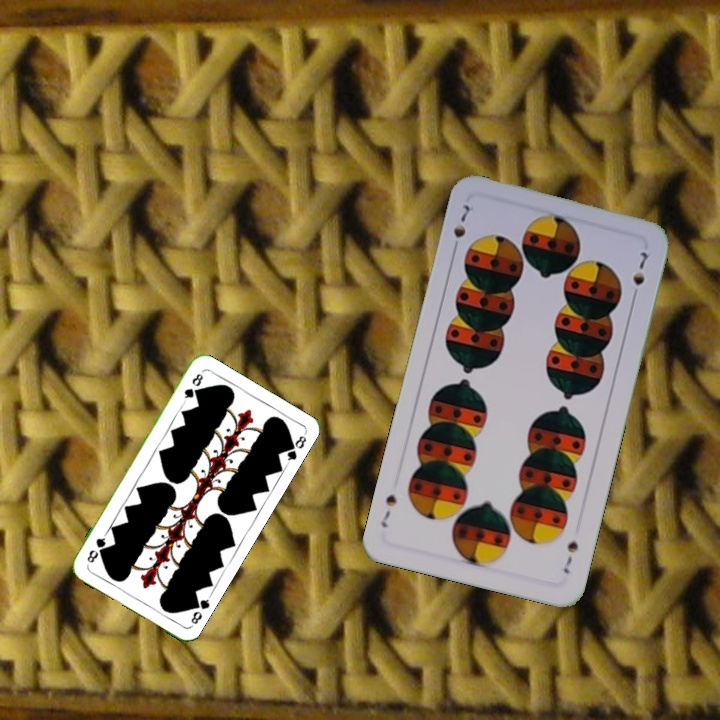G8: (179, 369, 206, 405), (187, 592, 213, 627)
S7: (448, 200, 475, 256), (559, 537, 581, 576)
